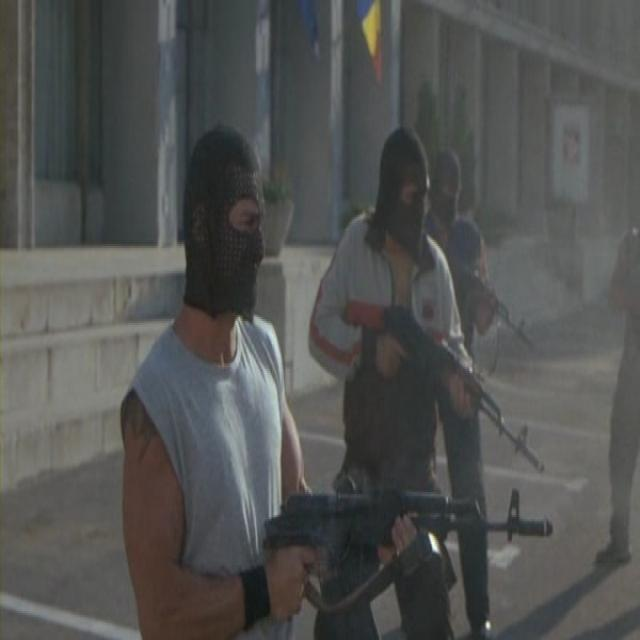rifle: (345, 301, 550, 482), (264, 484, 557, 588), (449, 256, 538, 355)
